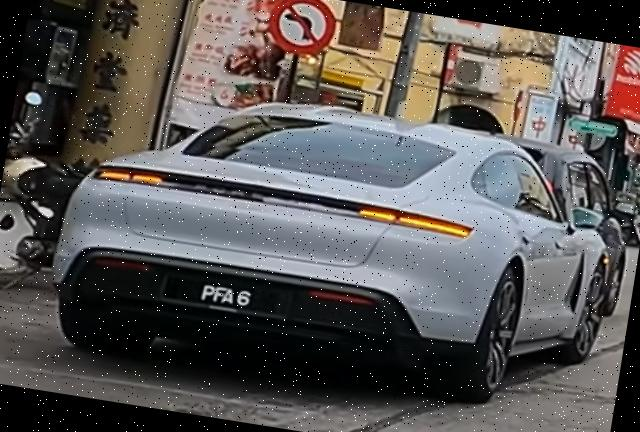License_Plate: (158, 266, 294, 323)
car: (39, 65, 640, 432)
